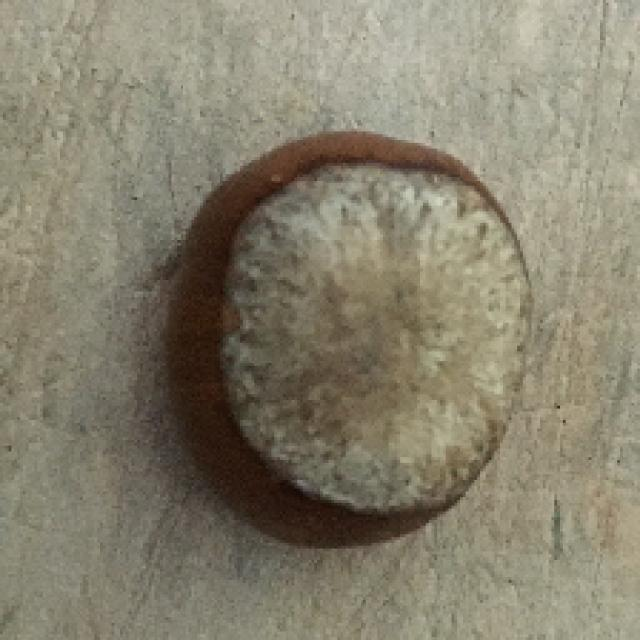qualityHazelnut: (172, 117, 535, 562)
